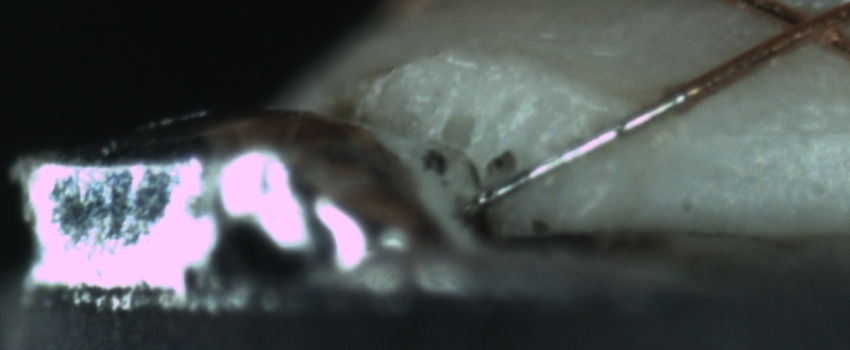CL: (760, 1, 845, 57)
DL: (640, 99, 850, 163)
TS: (467, 90, 683, 217)
TTCW: (467, 38, 771, 206)
